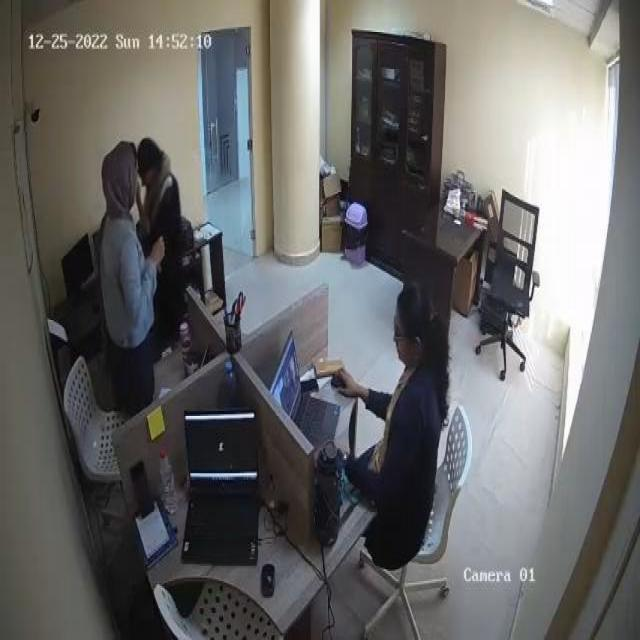bare_hand: (146, 232, 183, 283), (330, 359, 365, 408)
